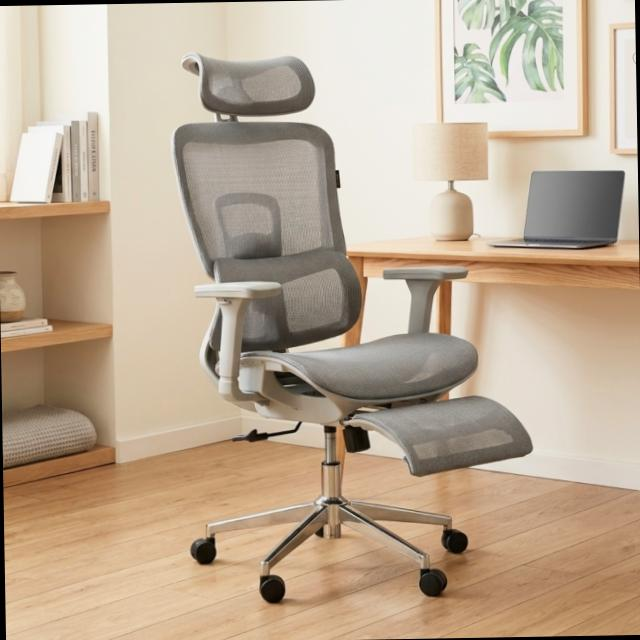Chair: (160, 40, 560, 617)
